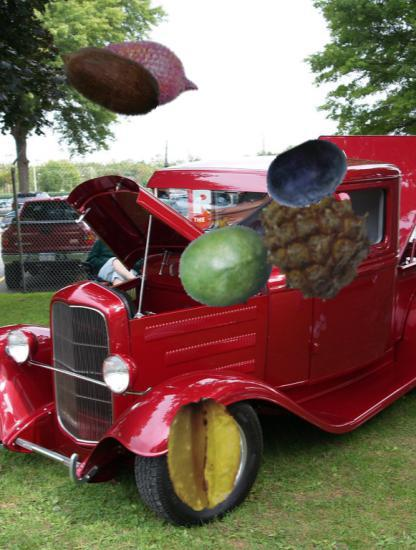Blueberry: (264, 131, 351, 218)
Carambula: (147, 398, 260, 511)
Mango: (178, 219, 277, 318)
Nut: (54, 24, 164, 134)
Pineapple: (250, 177, 373, 300)
Salak: (81, 14, 202, 135)
